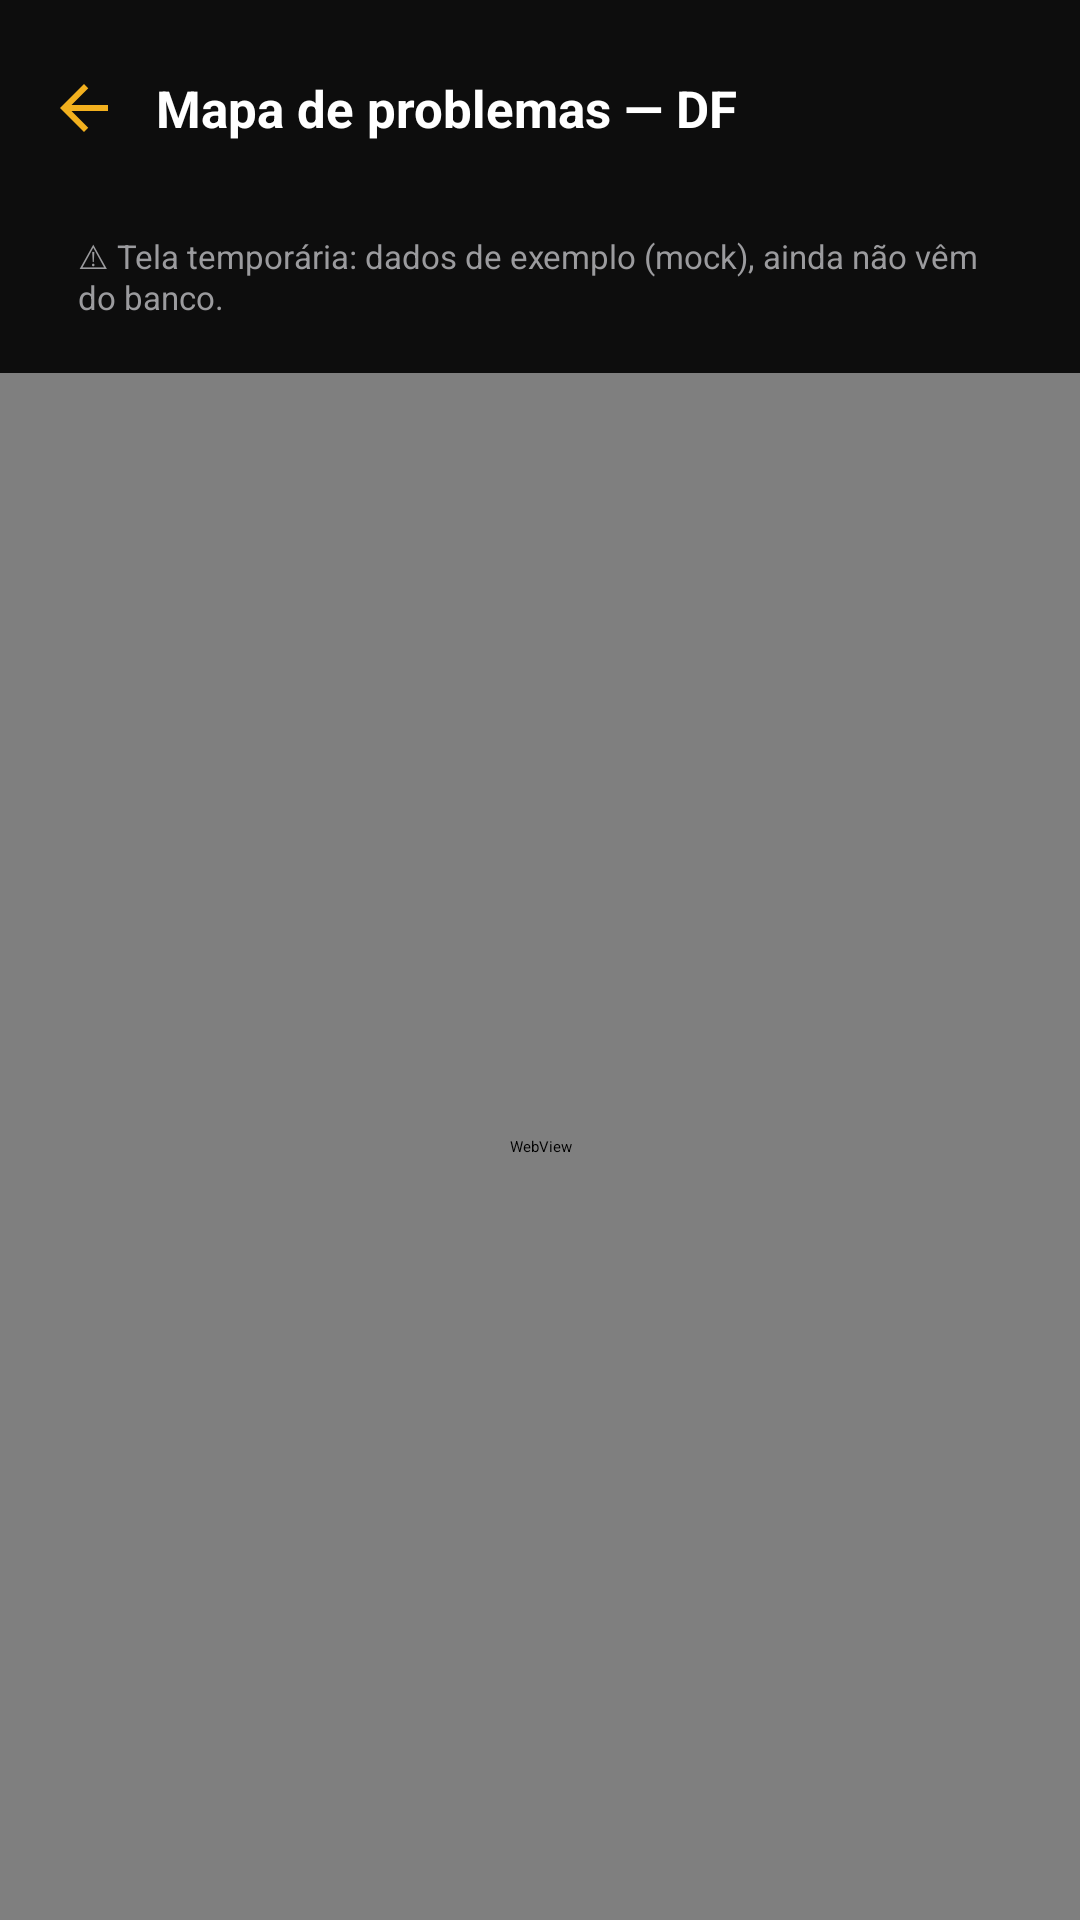

Point at icon controls on the screen. Image size 1080 x 1920, points as [x,y].
back: [84,108]
